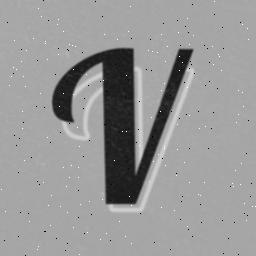v: (95, 40, 203, 216)
